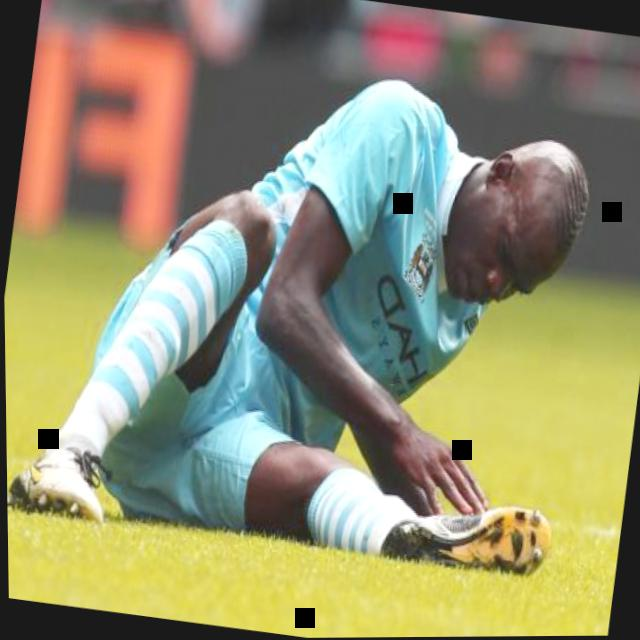Fall-Detected: (0, 0, 640, 592)
